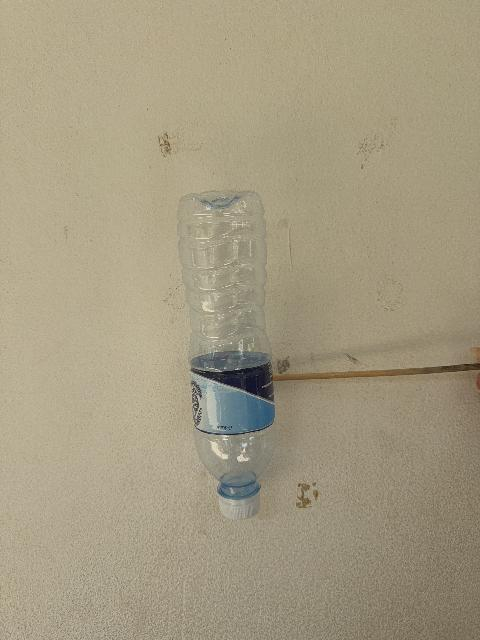bottle: (178, 191, 275, 519)
